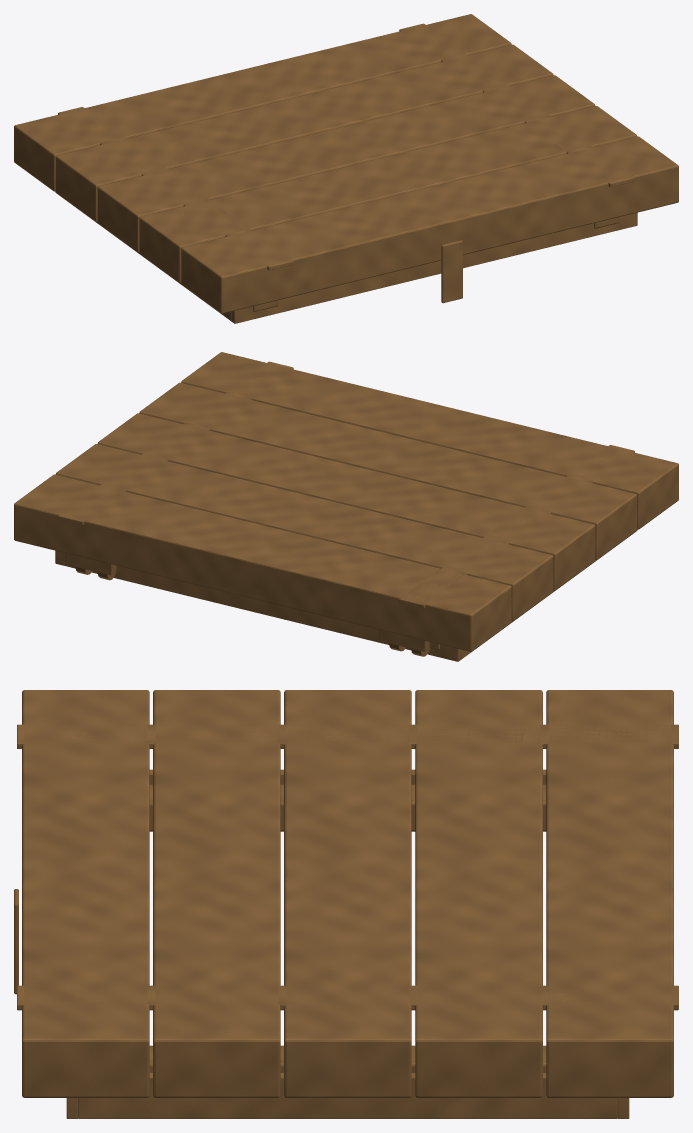
Rendered from chest_bronze_lid.glb.
The picture shows the model from 3 angles, top to bottom: view 1: azimuth 30°, elevation 25°; view 2: azimuth 150°, elevation 25°; view 3: azimuth 270°, elevation 25°; orthographic projection. The views are drawn at different scales.
Visible parts, largest first — view 1: chest_bronze_lid; view 2: chest_bronze_lid; view 3: chest_bronze_lid.
Part boxes in pixels (box(x1,y1,x2,y2)): chest_bronze_lid: box(14, 14, 678, 323); chest_bronze_lid: box(14, 352, 678, 661); chest_bronze_lid: box(14, 690, 678, 1118).
Bounding box in the file's own units: 0.994 × 0.162 × 0.7965.
Materials: 1 (1 with a texture image).
